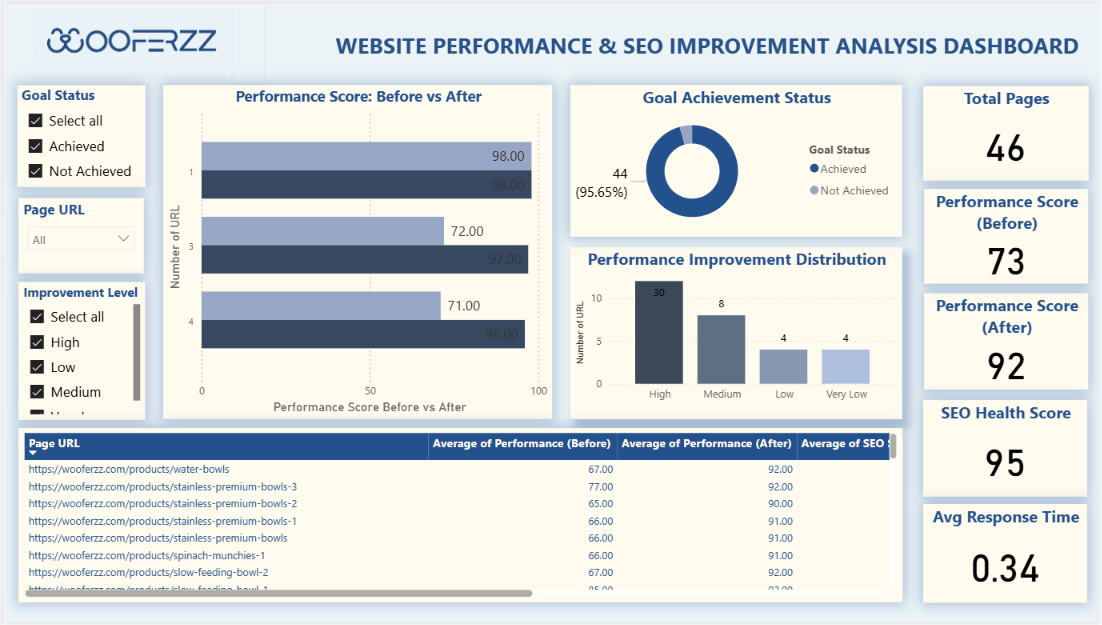

Layout of this report page (visuals, bound fields, positions):
{"tool":"powerbi","page":{"name":"Page 1","canvas":[1280,720],"ordinal":0},"visuals":[{"type":"card","title":"Total Pages ","fields":{"Values":["CountNonNull(final_seo_dashboard_data.URL)"]},"box":[1070.7,96,192,109.3],"z":0},{"type":"card","title":"Performance Score (After)","fields":{"Values":["final_seo_dashboard_data.Avg Performance After"]},"box":[1072,337.3,190.7,112],"z":1000},{"type":"card","title":"SEO Health Score","fields":{"Values":["final_seo_dashboard_data.Avg SEO After"]},"box":[1070.7,461.3,190.7,112],"z":2000},{"type":"card","title":"Performance Score (Before)","fields":{"Values":["final_seo_dashboard_data.Avg Performance Before"]},"box":[1072.1,216.3,190.7,109.3],"z":3000},{"type":"image","box":[0,0,304.3,95.7],"z":4000},{"type":"slicer","title":"Goal Status","fields":{"Values":["final_seo_dashboard_data.Target Label"]},"box":[17.1,95.7,148.6,118.6],"z":5000},{"type":"slicer","title":"Page URL","fields":{"Values":["final_seo_dashboard_data.URL"]},"box":[18.6,227.1,145.7,87.1],"z":6000},{"type":"slicer","title":"Improvement Level","fields":{"Values":["final_seo_dashboard_data.Improvement Category"]},"box":[18.6,324.3,147.1,160],"z":7000},{"type":"card","title":"Avg Response Time","fields":{"Values":["Avg(final_seo_dashboard_data.Response Time_after)"]},"box":[1070.7,582.7,190.7,114.7],"z":8000},{"type":"clusteredBarChart","title":"Performance Score: Before vs After","fields":{"Category":["final_seo_dashboard_data.URLS Index"],"Y":["Avg(final_seo_dashboard_data.Performance_Score_before)","Avg(final_seo_dashboard_data.Performance_Score_after)"]},"box":[187.2,95.3,452.3,388.4],"z":9000},{"type":"columnChart","title":"Performance Improvement Distribution","fields":{"Category":["final_seo_dashboard_data.Improvement Category"],"Y":["CountNonNull(final_seo_dashboard_data.URL)"]},"box":[660,284.3,385.7,200],"z":10000},{"type":"donutChart","title":"Goal Achievement Status","fields":{"Y":["CountNonNull(final_seo_dashboard_data.Page URL)"],"Category":["final_seo_dashboard_data.Goal Status"]},"box":[660,95.7,385.7,175.7],"z":11000},{"type":"tableEx","fields":{"Values":["final_seo_dashboard_data.URL","Avg(final_seo_dashboard_data.Performance_Score_before)","Avg(final_seo_dashboard_data.Performance_Score_after)","Avg(final_seo_dashboard_data.SEO_Health_Score_before)","Avg(final_seo_dashboard_data.SEO_Health_Score_after)","final_seo_dashboard_data.Avg Improvement","Avg(final_seo_dashboard_data.Response Time_after)","final_seo_dashboard_data.Target Label"]},"box":[18.1,494.6,1027.9,202.7],"z":12000},{"type":"textbox","title":"WEBSITE PERFORMANCE & SEO IMPROVEMENT ANALYSIS DASHBOARD","box":[382.4,31.4,880.7,33.8],"z":13000}]}

Visuals, with their boxes in screenshot pixels (x1, y1, x2, y2), scaled from the page's 1280x720 canvas onto the 1102x625 screenshot:
"Total Pages " card: 922 83 1087 178
"Performance Score (After)" card: 923 293 1087 390
"SEO Health Score" card: 922 400 1086 498
"Performance Score (Before)" card: 923 188 1087 283
image: 0 0 262 83
"Goal Status" slicer: 15 83 143 186
"Page URL" slicer: 16 197 141 273
"Improvement Level" slicer: 16 282 143 420
"Avg Response Time" card: 922 506 1086 605
"Performance Score: Before vs After" clusteredBarChart: 161 83 551 420
"Performance Improvement Distribution" columnChart: 568 247 900 420
"Goal Achievement Status" donutChart: 568 83 900 236
tableEx - final_seo_dashboard_data.URL x Avg(final_seo_dashboard_data.Performance_Score_before): 16 429 901 605
"WEBSITE PERFORMANCE & SEO IMPROVEMENT ANALYSIS DASHBOARD" textbox: 329 27 1087 57
